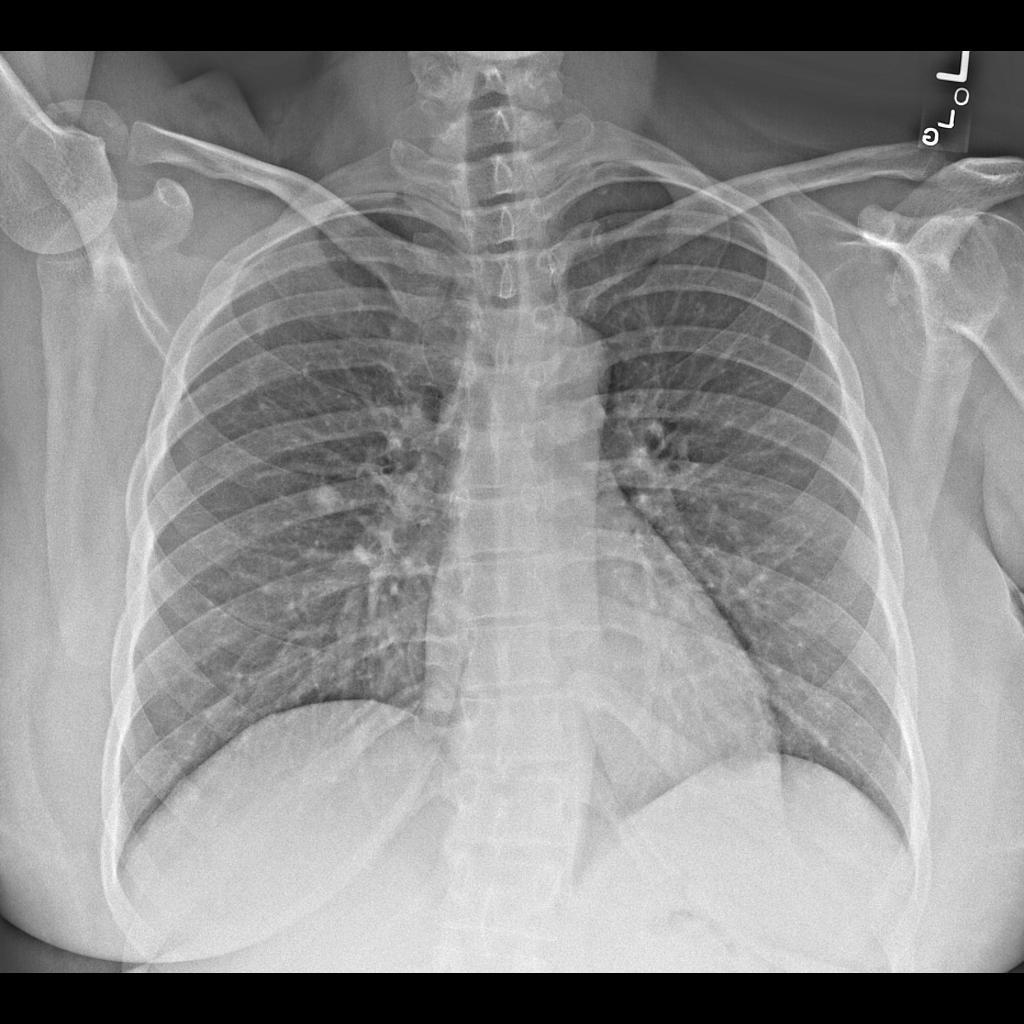Nodule: (306, 478, 353, 520)
